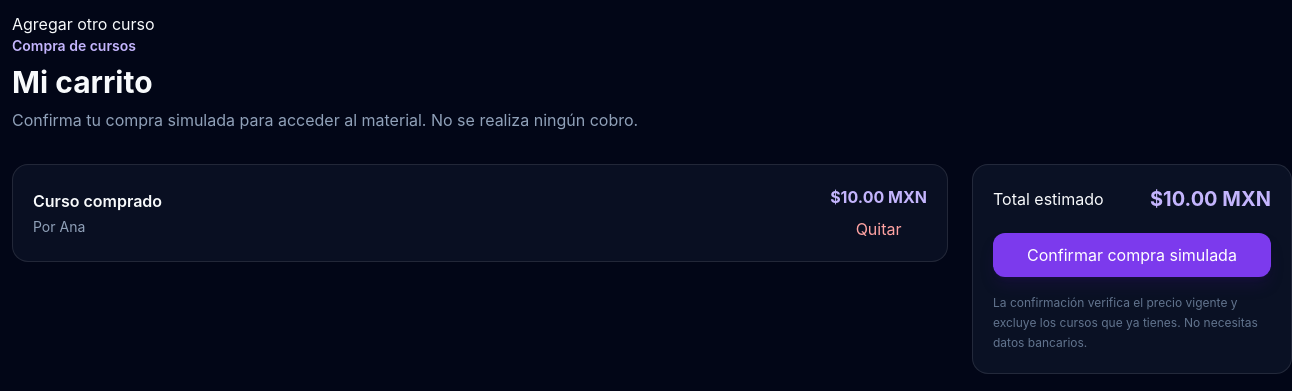
Scenario: confirmación de compra simulada › no vacía el carrito de otra cuenta si cambia la sesión durante la confirmación
Later steps or results of the test are not shown.
Click the button "Confirmar compra simulada" at coordinates (1132, 255), box [993,233,1271,277]
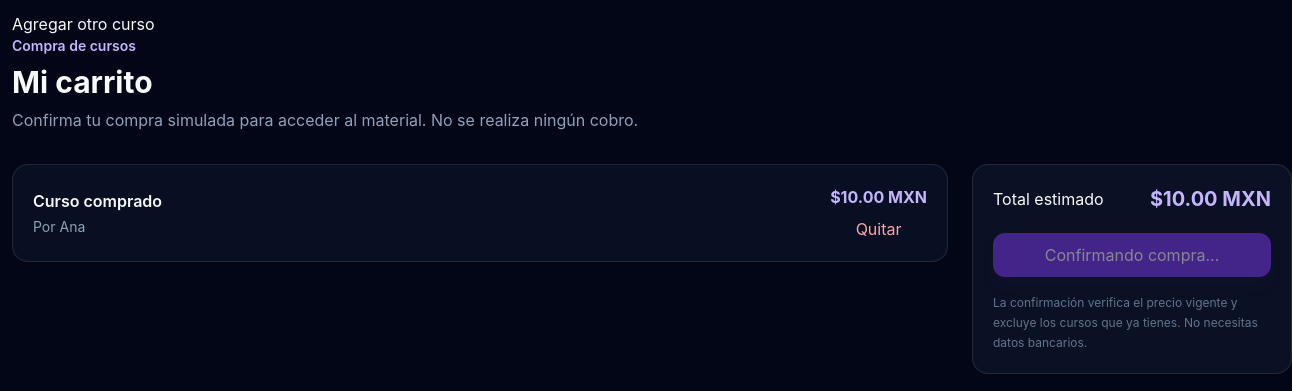
Expected: the button "Confirmando compra..." is disabled, [993,233,1271,277]
